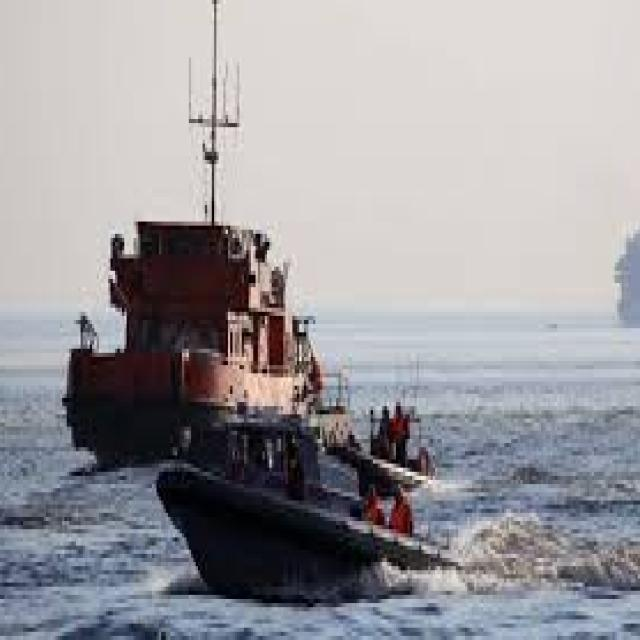houseboat: (56, 193, 311, 450), (155, 376, 380, 596), (336, 373, 439, 506)
